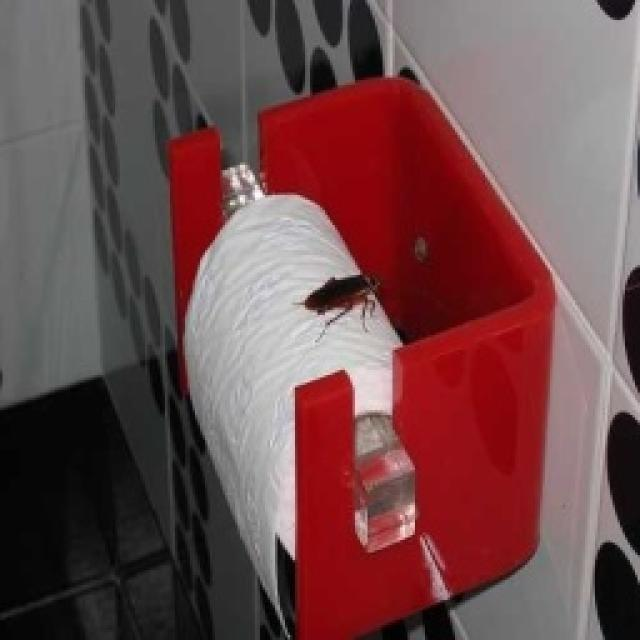cockroach: (295, 266, 388, 344)
